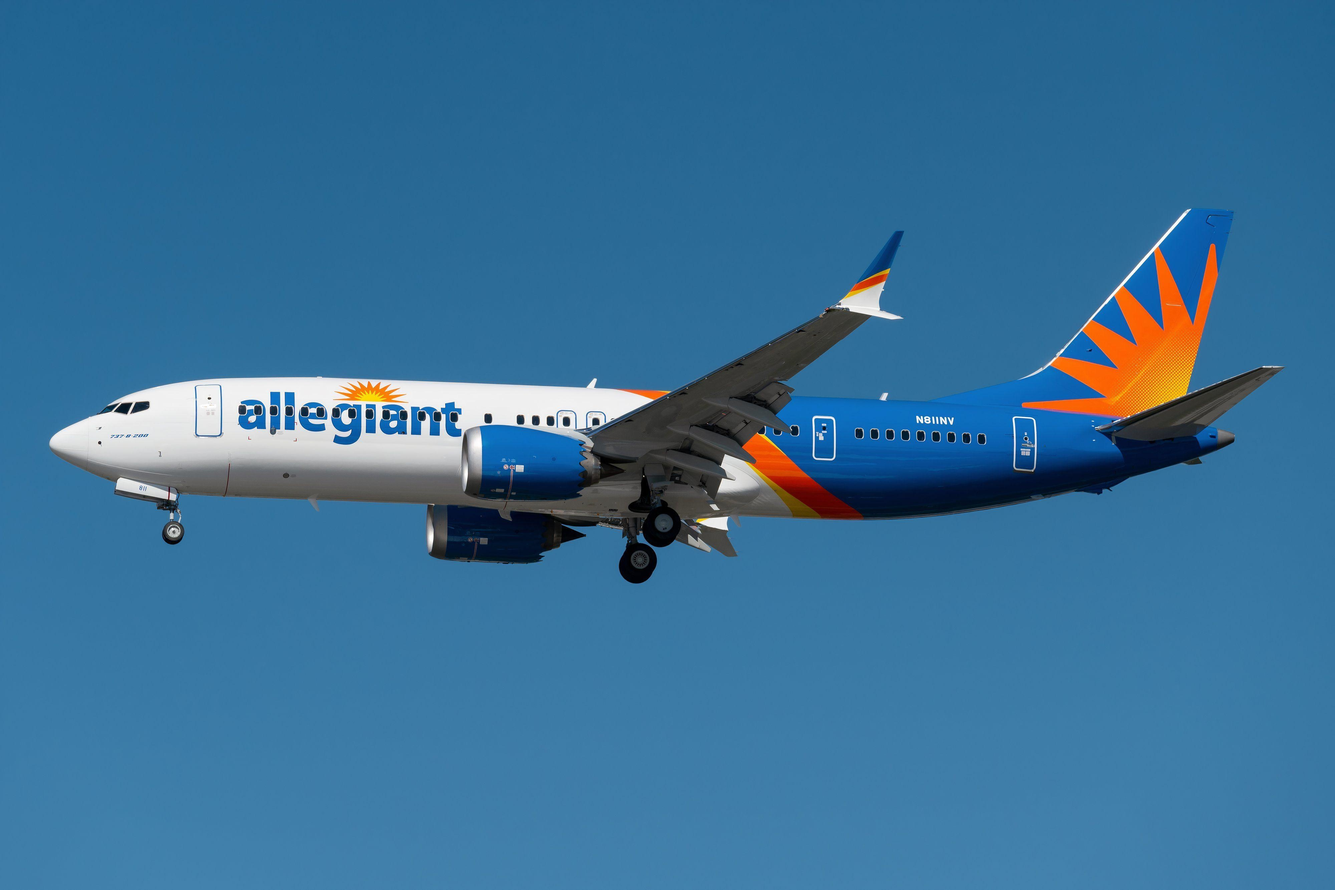aircraft: (57, 225, 1300, 581)
